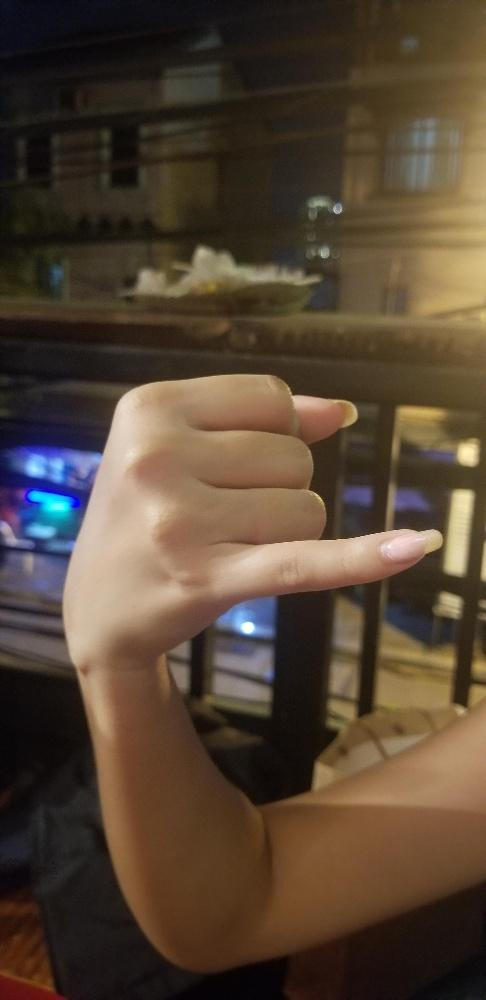j: (57, 365, 444, 672)
